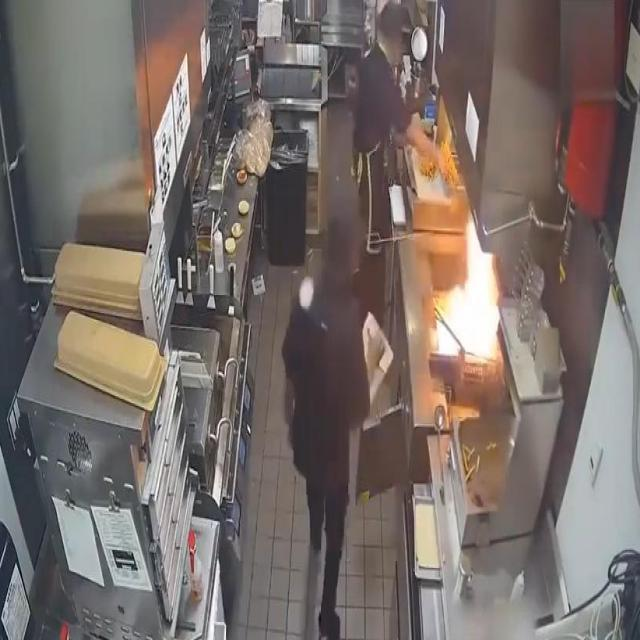smoke: (430, 210, 504, 368)
